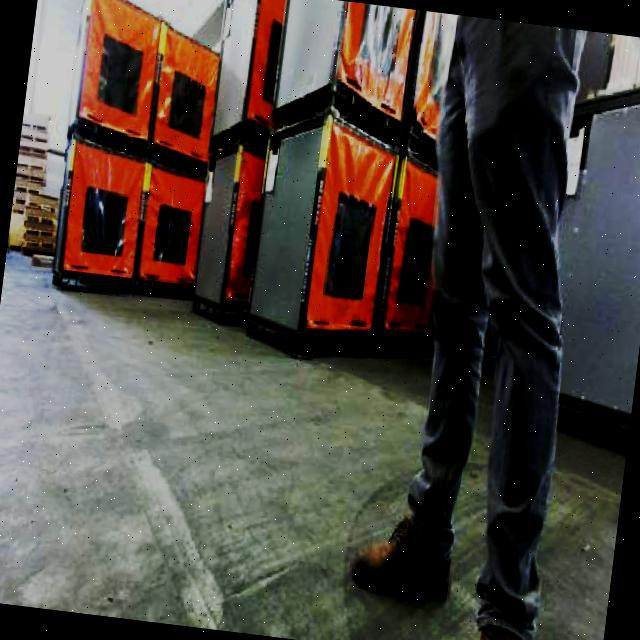ground: (0, 245, 640, 640)
pallet: (41, 0, 640, 402), (187, 0, 288, 325), (7, 109, 72, 258), (18, 189, 63, 256)
